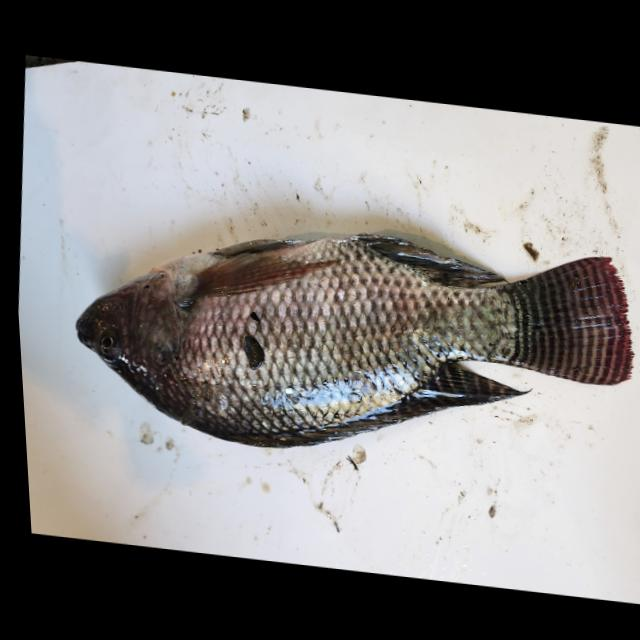Tilapia: (54, 188, 640, 491)
